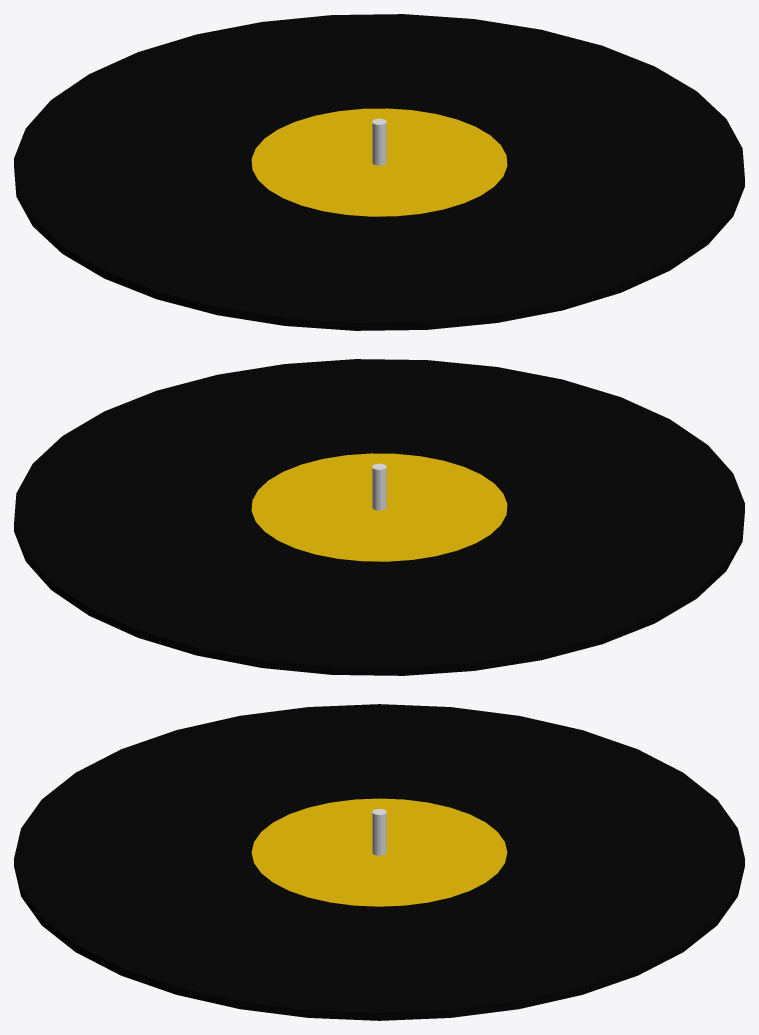
File: record.fbx
The picture shows the model from 3 angles, top to bottom: view 1: azimuth 30°, elevation 25°; view 2: azimuth 150°, elevation 25°; view 3: azimuth 270°, elevation 25°; orthographic projection.
Visible parts, largest first — view 1: Cylinder, Cylinder.001, Cylinder.002; view 2: Cylinder, Cylinder.001, Cylinder.002; view 3: Cylinder, Cylinder.001, Cylinder.002.
Boxes of the visible parts, bbox=[...] form: Cylinder: bbox=[14, 14, 744, 330]; Cylinder.001: bbox=[251, 108, 507, 216]; Cylinder.002: bbox=[372, 118, 386, 165]; Cylinder: bbox=[14, 359, 744, 675]; Cylinder.001: bbox=[251, 453, 507, 561]; Cylinder.002: bbox=[372, 463, 386, 510]; Cylinder: bbox=[14, 704, 744, 1020]; Cylinder.001: bbox=[251, 798, 507, 906]; Cylinder.002: bbox=[372, 809, 386, 855].
Size of the model in its own units: 200 by 30.54 by 200.
